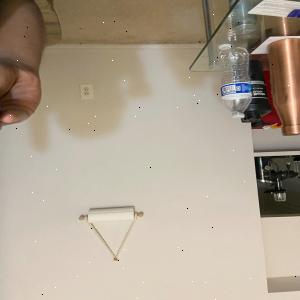Blume-E-Ciggirate: (0, 99, 10, 134)
